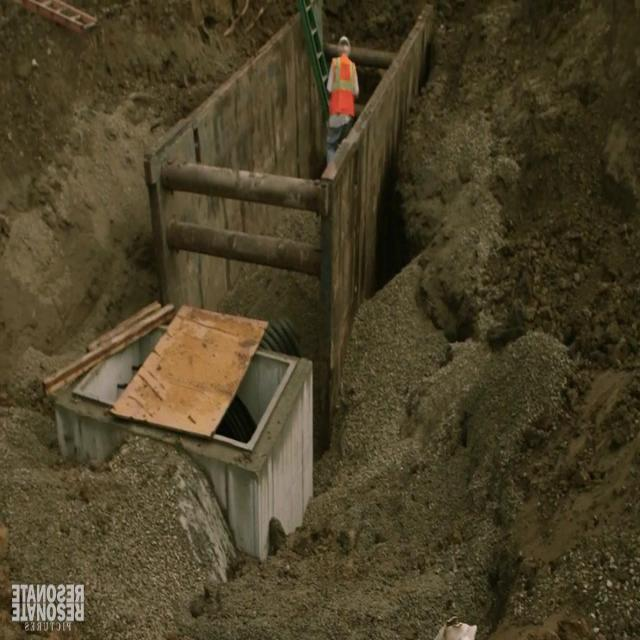Reflective-Jacket: (322, 54, 360, 131)
Safety-Helmet: (336, 31, 354, 54)
